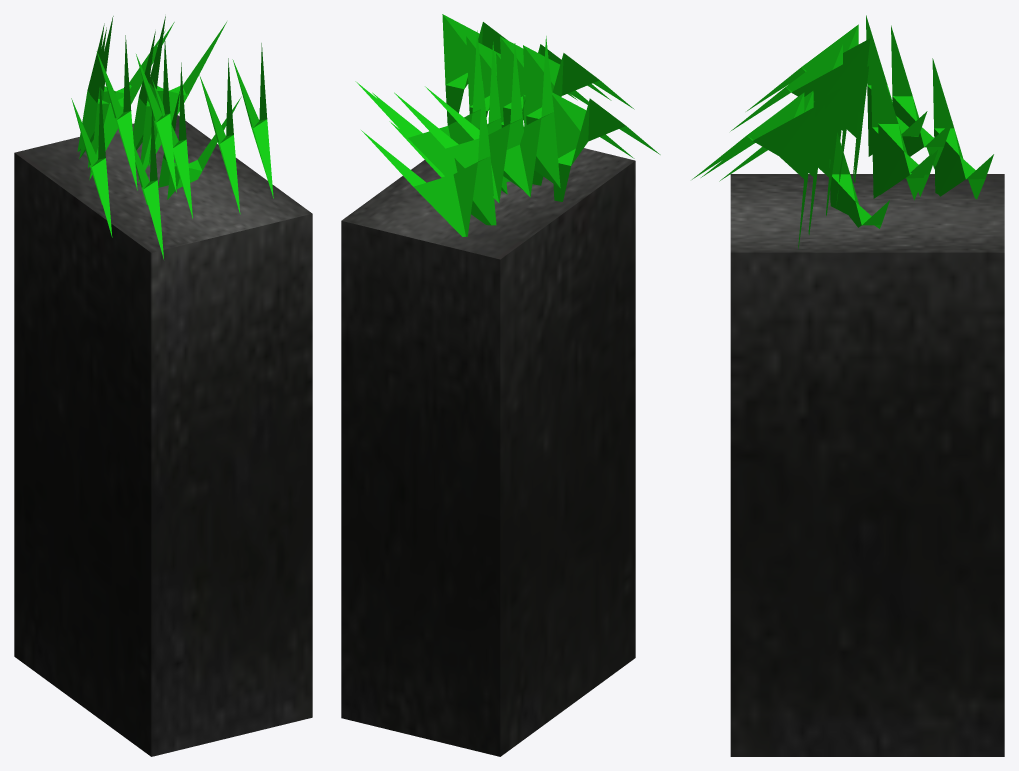
File: potPlant.obj
3 views of the same model, side by side, from view 1: azimuth 30°, elevation 25°; view 2: azimuth 150°, elevation 25°; view 3: azimuth 270°, elevation 25° (orthographic).
Parts seen in each view (by area): view 1: Cube.007_Material.001, Cube.007_trees; view 2: Cube.007_Material.001, Cube.007_trees; view 3: Cube.007_Material.001, Cube.007_trees.
Part boxes in pixels (x1=…): Cube.007_Material.001: x1=14, y1=115, x2=312, y2=756; Cube.007_trees: x1=71, y1=16, x2=273, y2=259; Cube.007_Material.001: x1=341, y1=148, x2=635, y2=756; Cube.007_trees: x1=355, y1=14, x2=660, y2=236; Cube.007_Material.001: x1=730, y1=174, x2=1004, y2=756; Cube.007_trees: x1=692, y1=15, x2=993, y2=249.
Size of the model in its own units: 0.7686 by 2.33 by 0.9828.
